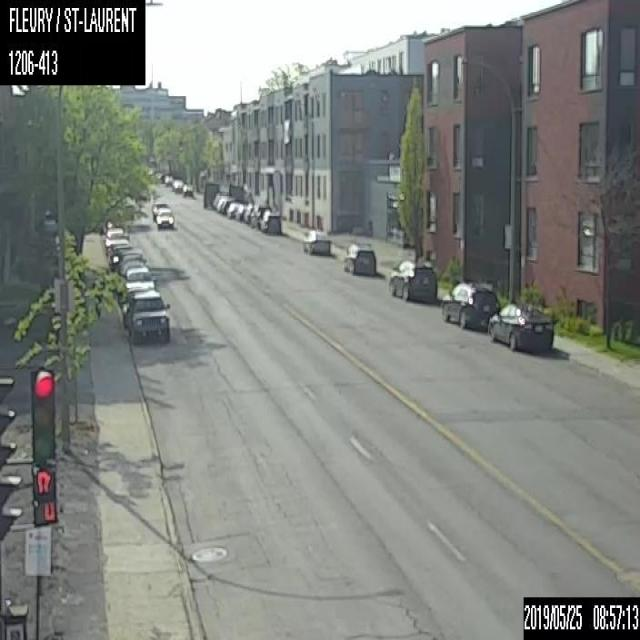vehicle: (488, 303, 552, 353), (442, 280, 500, 330), (388, 256, 437, 303), (127, 292, 168, 341), (122, 265, 155, 299), (342, 243, 375, 276), (301, 229, 330, 255), (260, 209, 281, 235), (250, 203, 270, 229), (203, 181, 218, 208), (156, 207, 173, 229), (225, 199, 239, 218), (242, 201, 253, 222), (182, 184, 192, 197), (235, 203, 242, 220)
